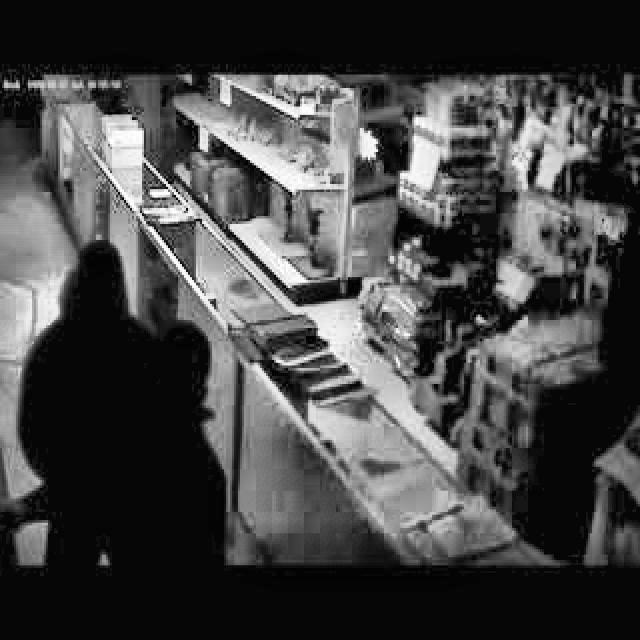Weapon: (22, 183, 272, 581)
